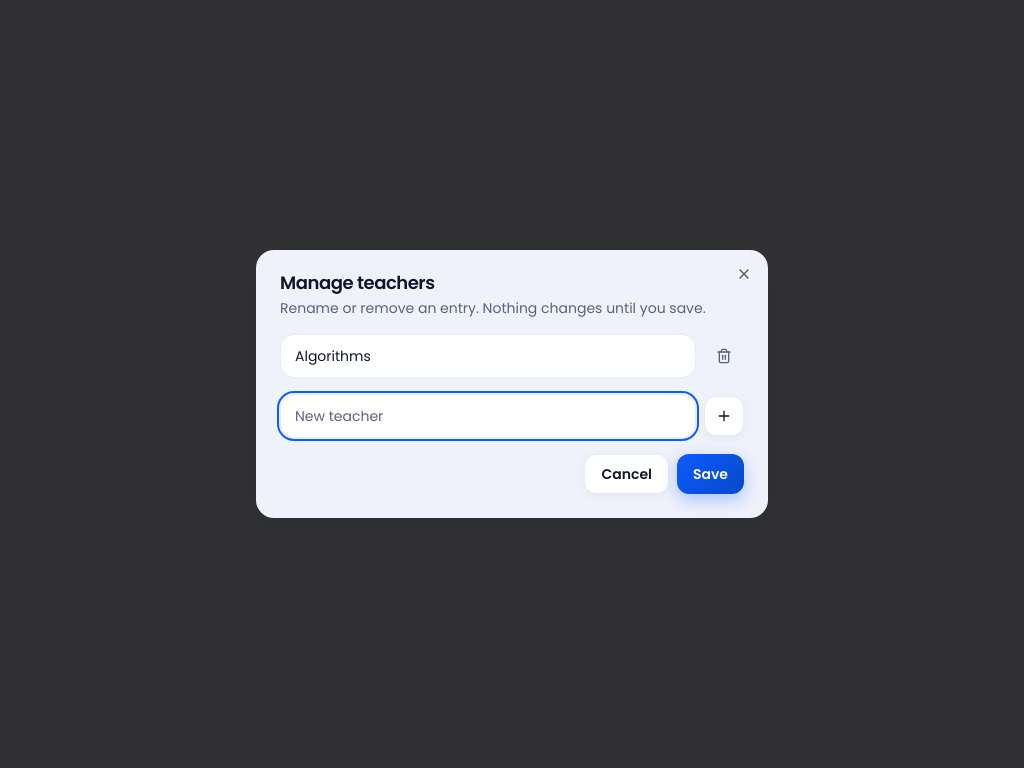
Test case: ManageListDialog › refuses to go below the minimum, and says why
Click the button named "Remove Algorithms" at (724, 356), box [704, 336, 744, 376]
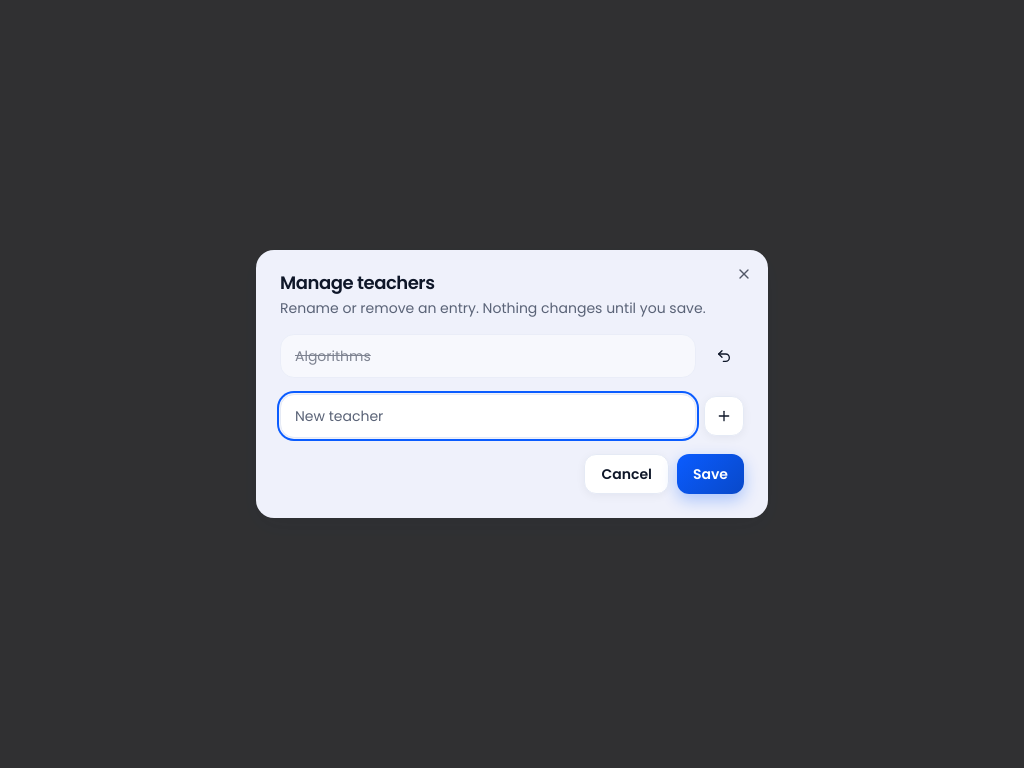
Click the button "Save" at (710, 474), box [677, 454, 744, 494]
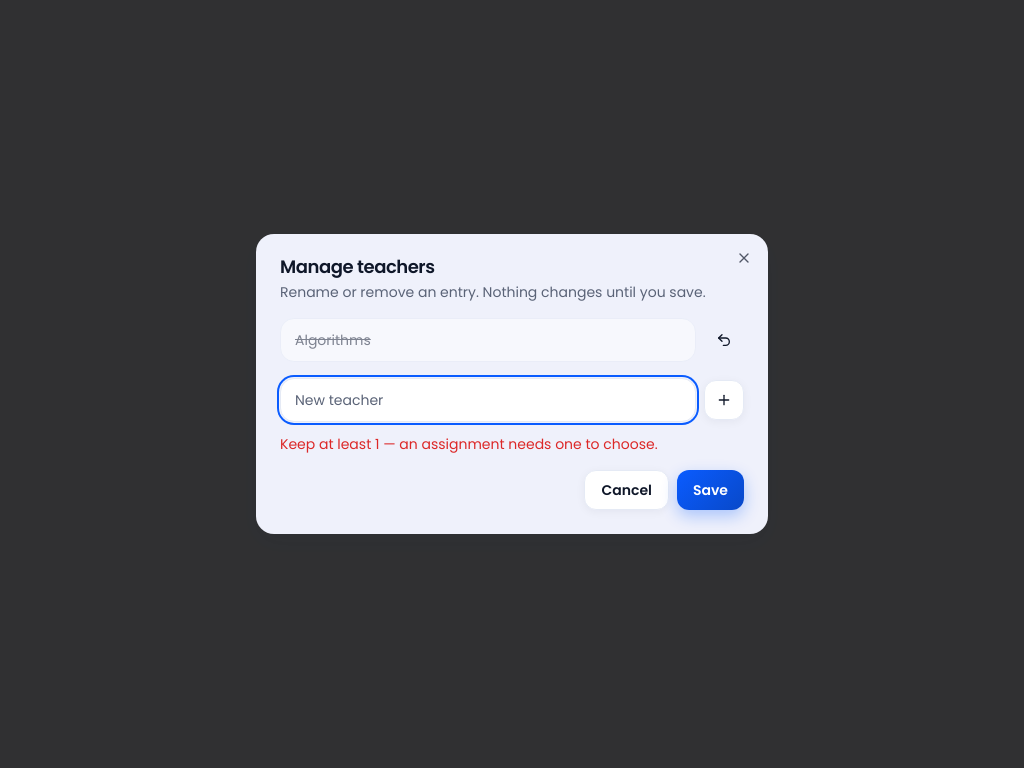
Check: the text "Keep at least 1 — an assignment needs one to choose." is shown, box [280, 434, 658, 454]
